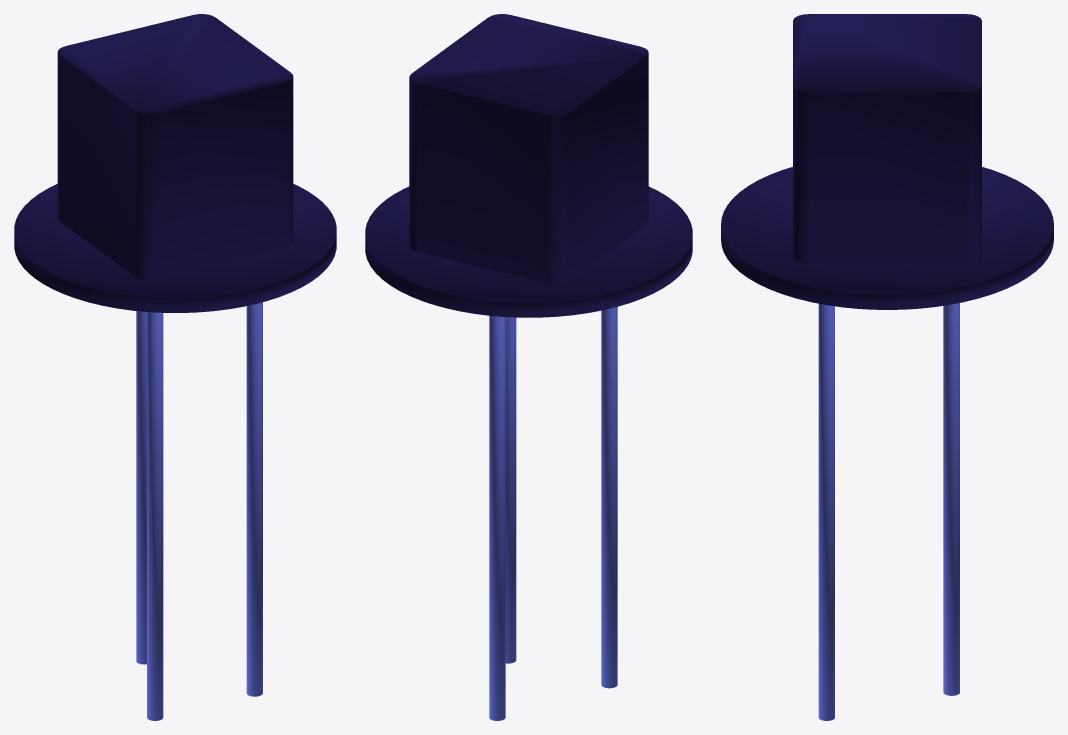
File: 1955_transistor_v2.fbx
3 views of the same model, side by side, from view 1: azimuth 30°, elevation 25°; view 2: azimuth 150°, elevation 25°; view 3: azimuth 270°, elevation 25° (orthographic). The views are drawn at different scales.
Visible parts, largest first — view 1: 1955_transistor; view 2: 1955_transistor; view 3: 1955_transistor.
Part boxes in pixels (x1,y1,x2,y2): 1955_transistor: (14, 14, 336, 720); 1955_transistor: (365, 14, 692, 720); 1955_transistor: (721, 14, 1053, 720).
Bounding box in the file's own units: 200 × 424 × 200.
